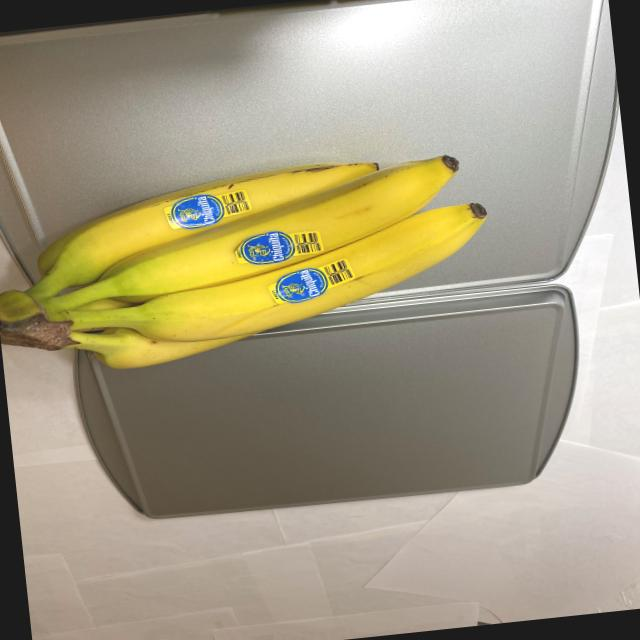banana: (0, 122, 502, 384)
